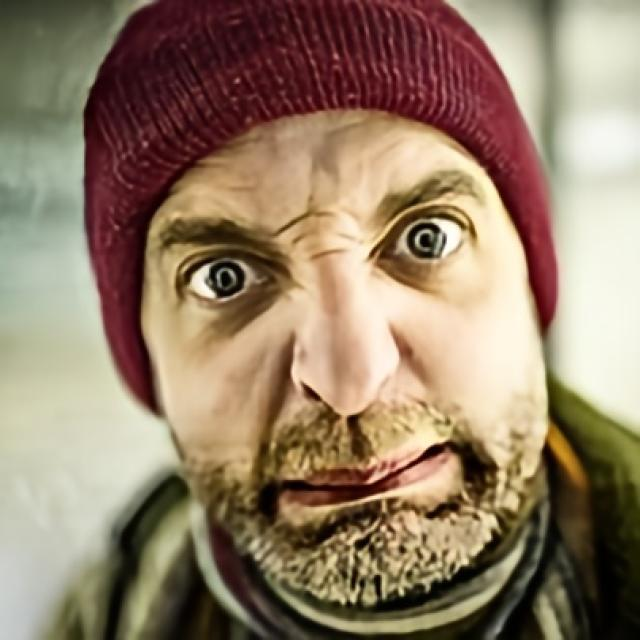disgust: (138, 106, 550, 614)
